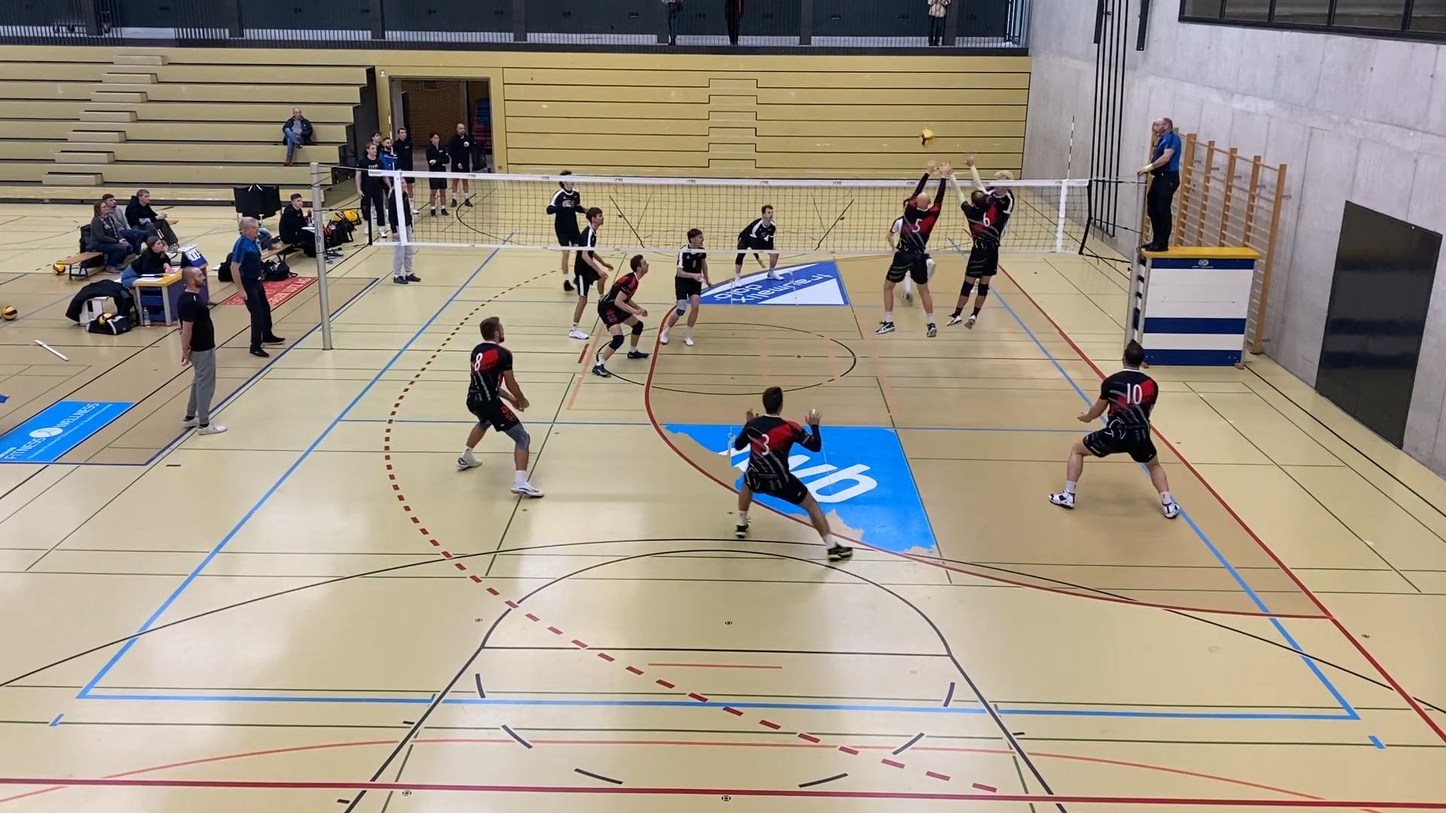attacco: (980, 149, 1016, 253)
muro: (881, 161, 952, 342), (948, 160, 1010, 332)
